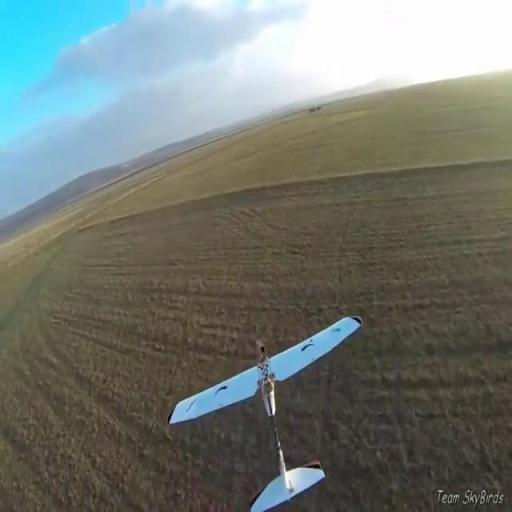uav: (166, 317, 362, 511)
